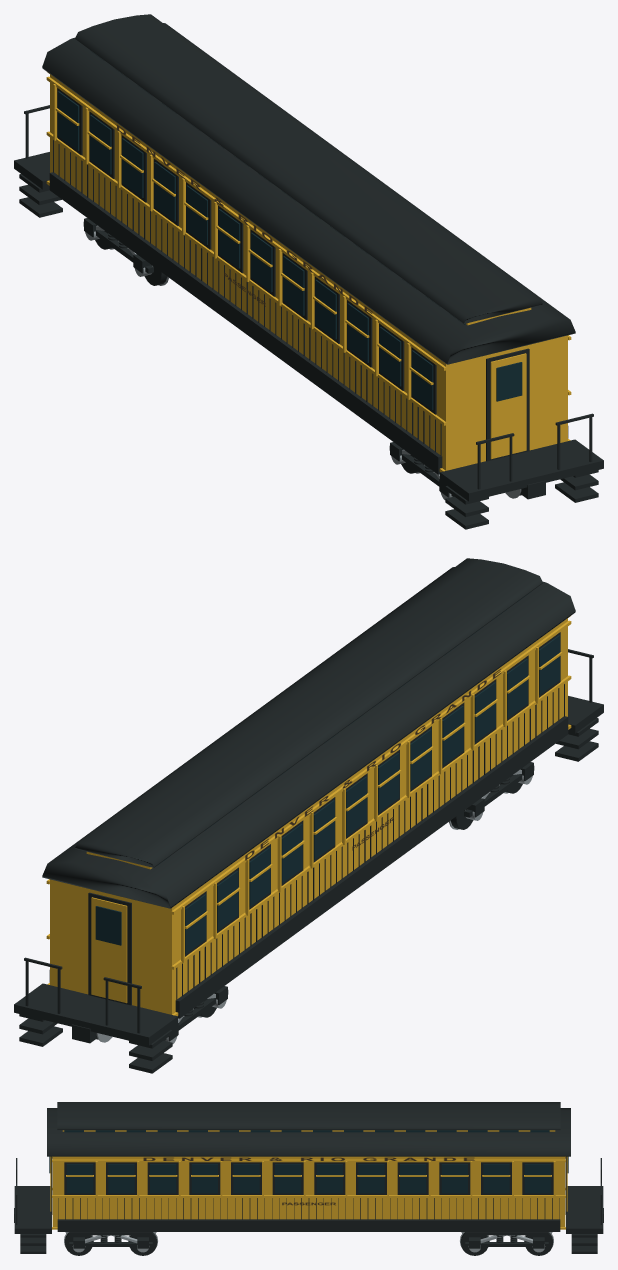
Rendered from drgw-wood-coach-914.glb.
3 renders of one model, top to bottom at view 1: azimuth 30°, elevation 25°; view 2: azimuth 150°, elevation 25°; view 3: azimuth 270°, elevation 25°, orthographic. The views are drawn at different scales.
Visible parts, largest first — view 1: body, bogie_1, bogie_0; view 2: body, bogie_0, bogie_1; view 3: body, bogie_0, bogie_1, wheel (×4), lettering_2.
Part boxes in pixels (box(x1,y1,x2,y2)): body: box(14, 14, 603, 529); bogie_1: box(83, 218, 168, 285); bogie_0: box(389, 442, 521, 499); body: box(14, 558, 603, 1073); bogie_0: box(449, 762, 534, 829); bogie_1: box(96, 986, 228, 1043); body: box(14, 1102, 603, 1253); bogie_0: box(64, 1232, 157, 1252); bogie_1: box(460, 1232, 553, 1252); wheel (×4): box(65, 1232, 552, 1255); lettering_2: box(143, 1157, 474, 1160).
Bounding box in the file's own units: 2.6 × 3.87 × 15.2.
8 materials, 4 textured.
